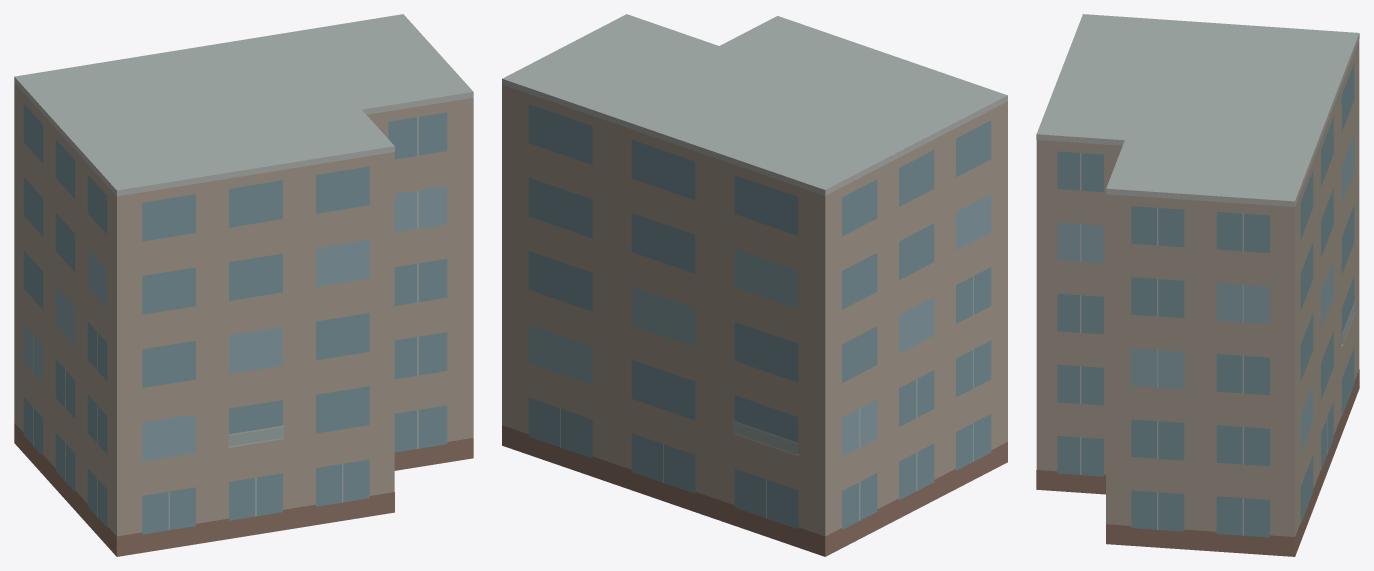
File: survey-upis-32616459.glb
The picture shows the model from 3 angles, left to right: view 1: azimuth 30°, elevation 25°; view 2: azimuth 150°, elevation 25°; view 3: azimuth 270°, elevation 25°; orthographic projection. The views are drawn at different scales.
Parts seen in each view (by area): view 1: survey-upis-32616459.tmp; view 2: survey-upis-32616459.tmp; view 3: survey-upis-32616459.tmp.
Boxes of the visible parts, x1,y1,x2,y2 form: survey-upis-32616459.tmp: (14,14,473,556); survey-upis-32616459.tmp: (502,14,1007,556); survey-upis-32616459.tmp: (1036,14,1359,556).
Size of the model in its own units: 17.25 by 15.25 by 12.57.
